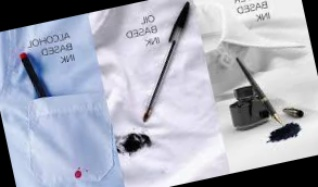ink: (266, 120, 303, 145), (118, 130, 151, 155), (75, 170, 83, 179)
